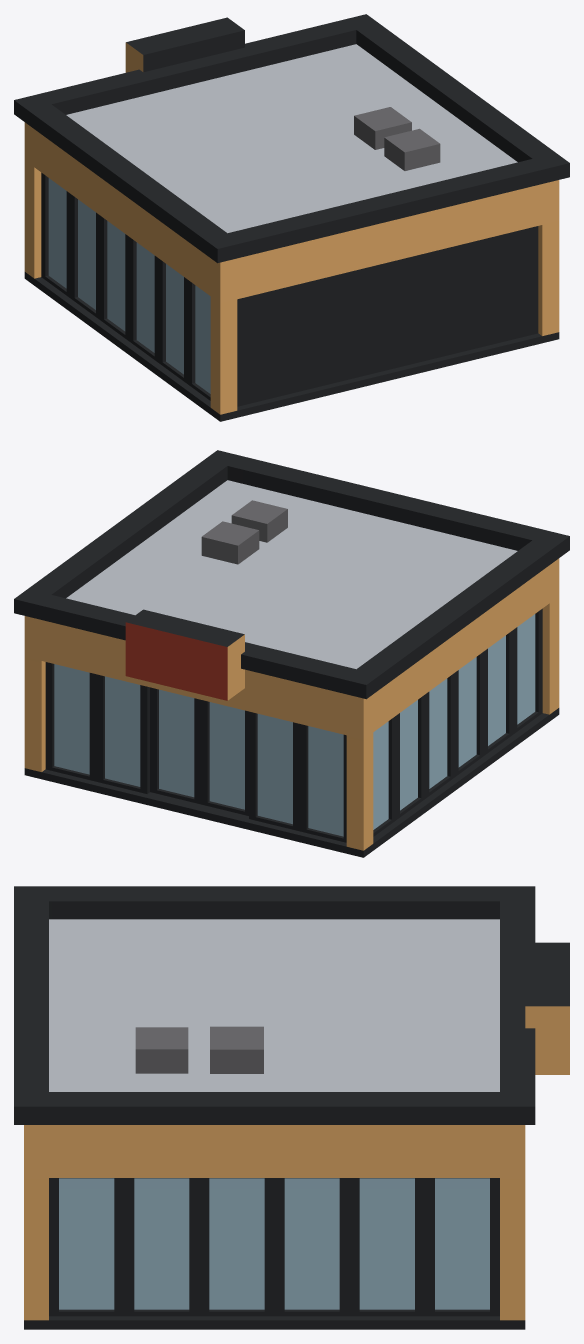
File: small_shop.fbx
The picture shows the model from 3 angles, top to bottom: view 1: azimuth 30°, elevation 25°; view 2: azimuth 150°, elevation 25°; view 3: azimuth 270°, elevation 25°; orthographic projection. The views are drawn at different scales.
Parts seen in each view (by area): view 1: Cube; view 2: Cube; view 3: Cube.
Part boxes in pixels (x1,y1,x2,y2): Cube: [14, 14, 569, 421]; Cube: [14, 450, 569, 857]; Cube: [14, 886, 569, 1329].
Bounding box in the file's own units: 1040 × 549 × 1109.
